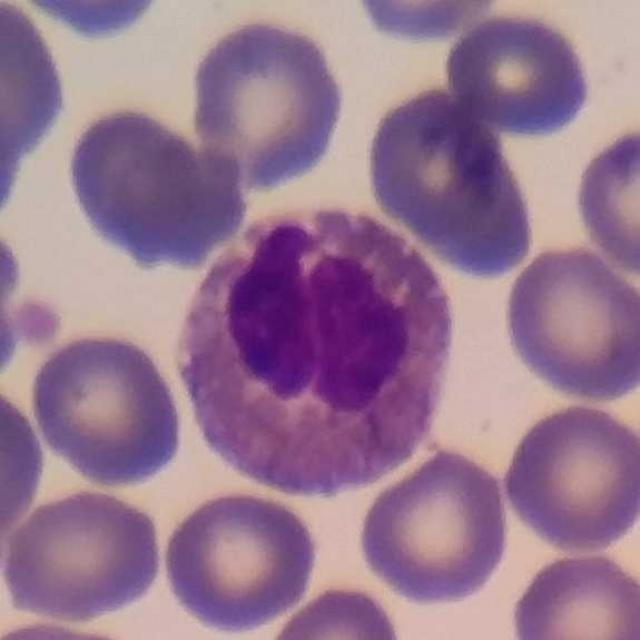Eosinophil: (160, 195, 467, 500)
Platelets: (14, 298, 70, 356)
RBC: (358, 82, 541, 282), (59, 98, 254, 276), (184, 10, 352, 196), (27, 325, 188, 491), (354, 444, 514, 609), (157, 486, 323, 638), (0, 484, 167, 626), (497, 241, 639, 405), (497, 398, 640, 555), (440, 5, 598, 142), (0, 0, 76, 244), (504, 547, 640, 640), (569, 119, 640, 281), (260, 581, 408, 640), (0, 380, 50, 554), (345, 0, 506, 47), (30, 0, 168, 48), (0, 223, 24, 394), (1, 615, 153, 640)
